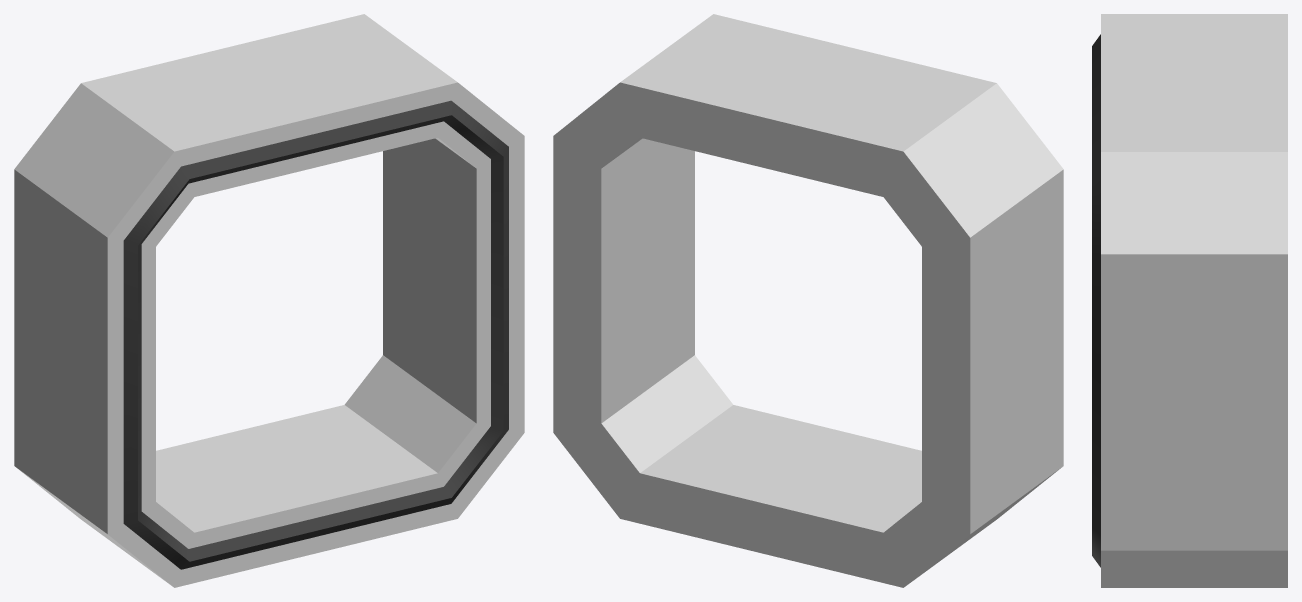
File: passageway_005.fbx
3 renders of one model, left to right at view 1: azimuth 30°, elevation 25°; view 2: azimuth 150°, elevation 25°; view 3: azimuth 270°, elevation 25°, orthographic.
Parts seen in each view (by area): view 1: passageway_005; view 2: passageway_005; view 3: passageway_005.
Boxes of the visible parts, bbox=[...] form: passageway_005: bbox=[14, 14, 524, 587]; passageway_005: bbox=[553, 14, 1063, 587]; passageway_005: bbox=[1092, 14, 1287, 587].
Bounding box in the file's own units: 326 × 133 × 326.
